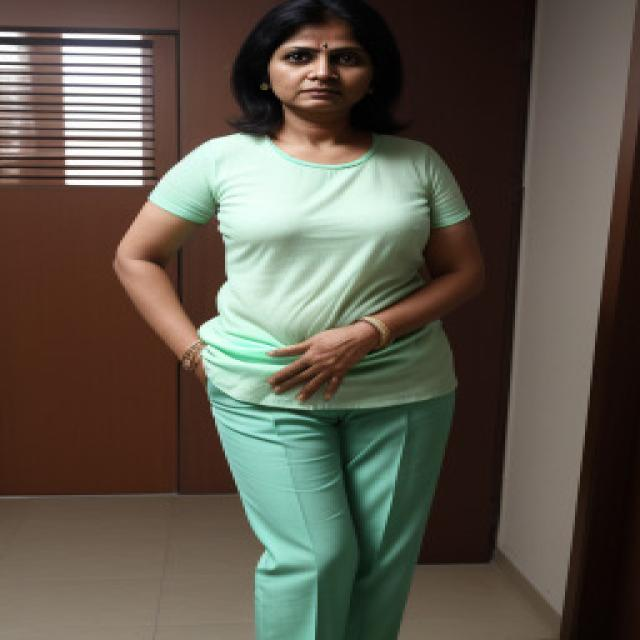Ai human 2: (89, 0, 533, 640)
